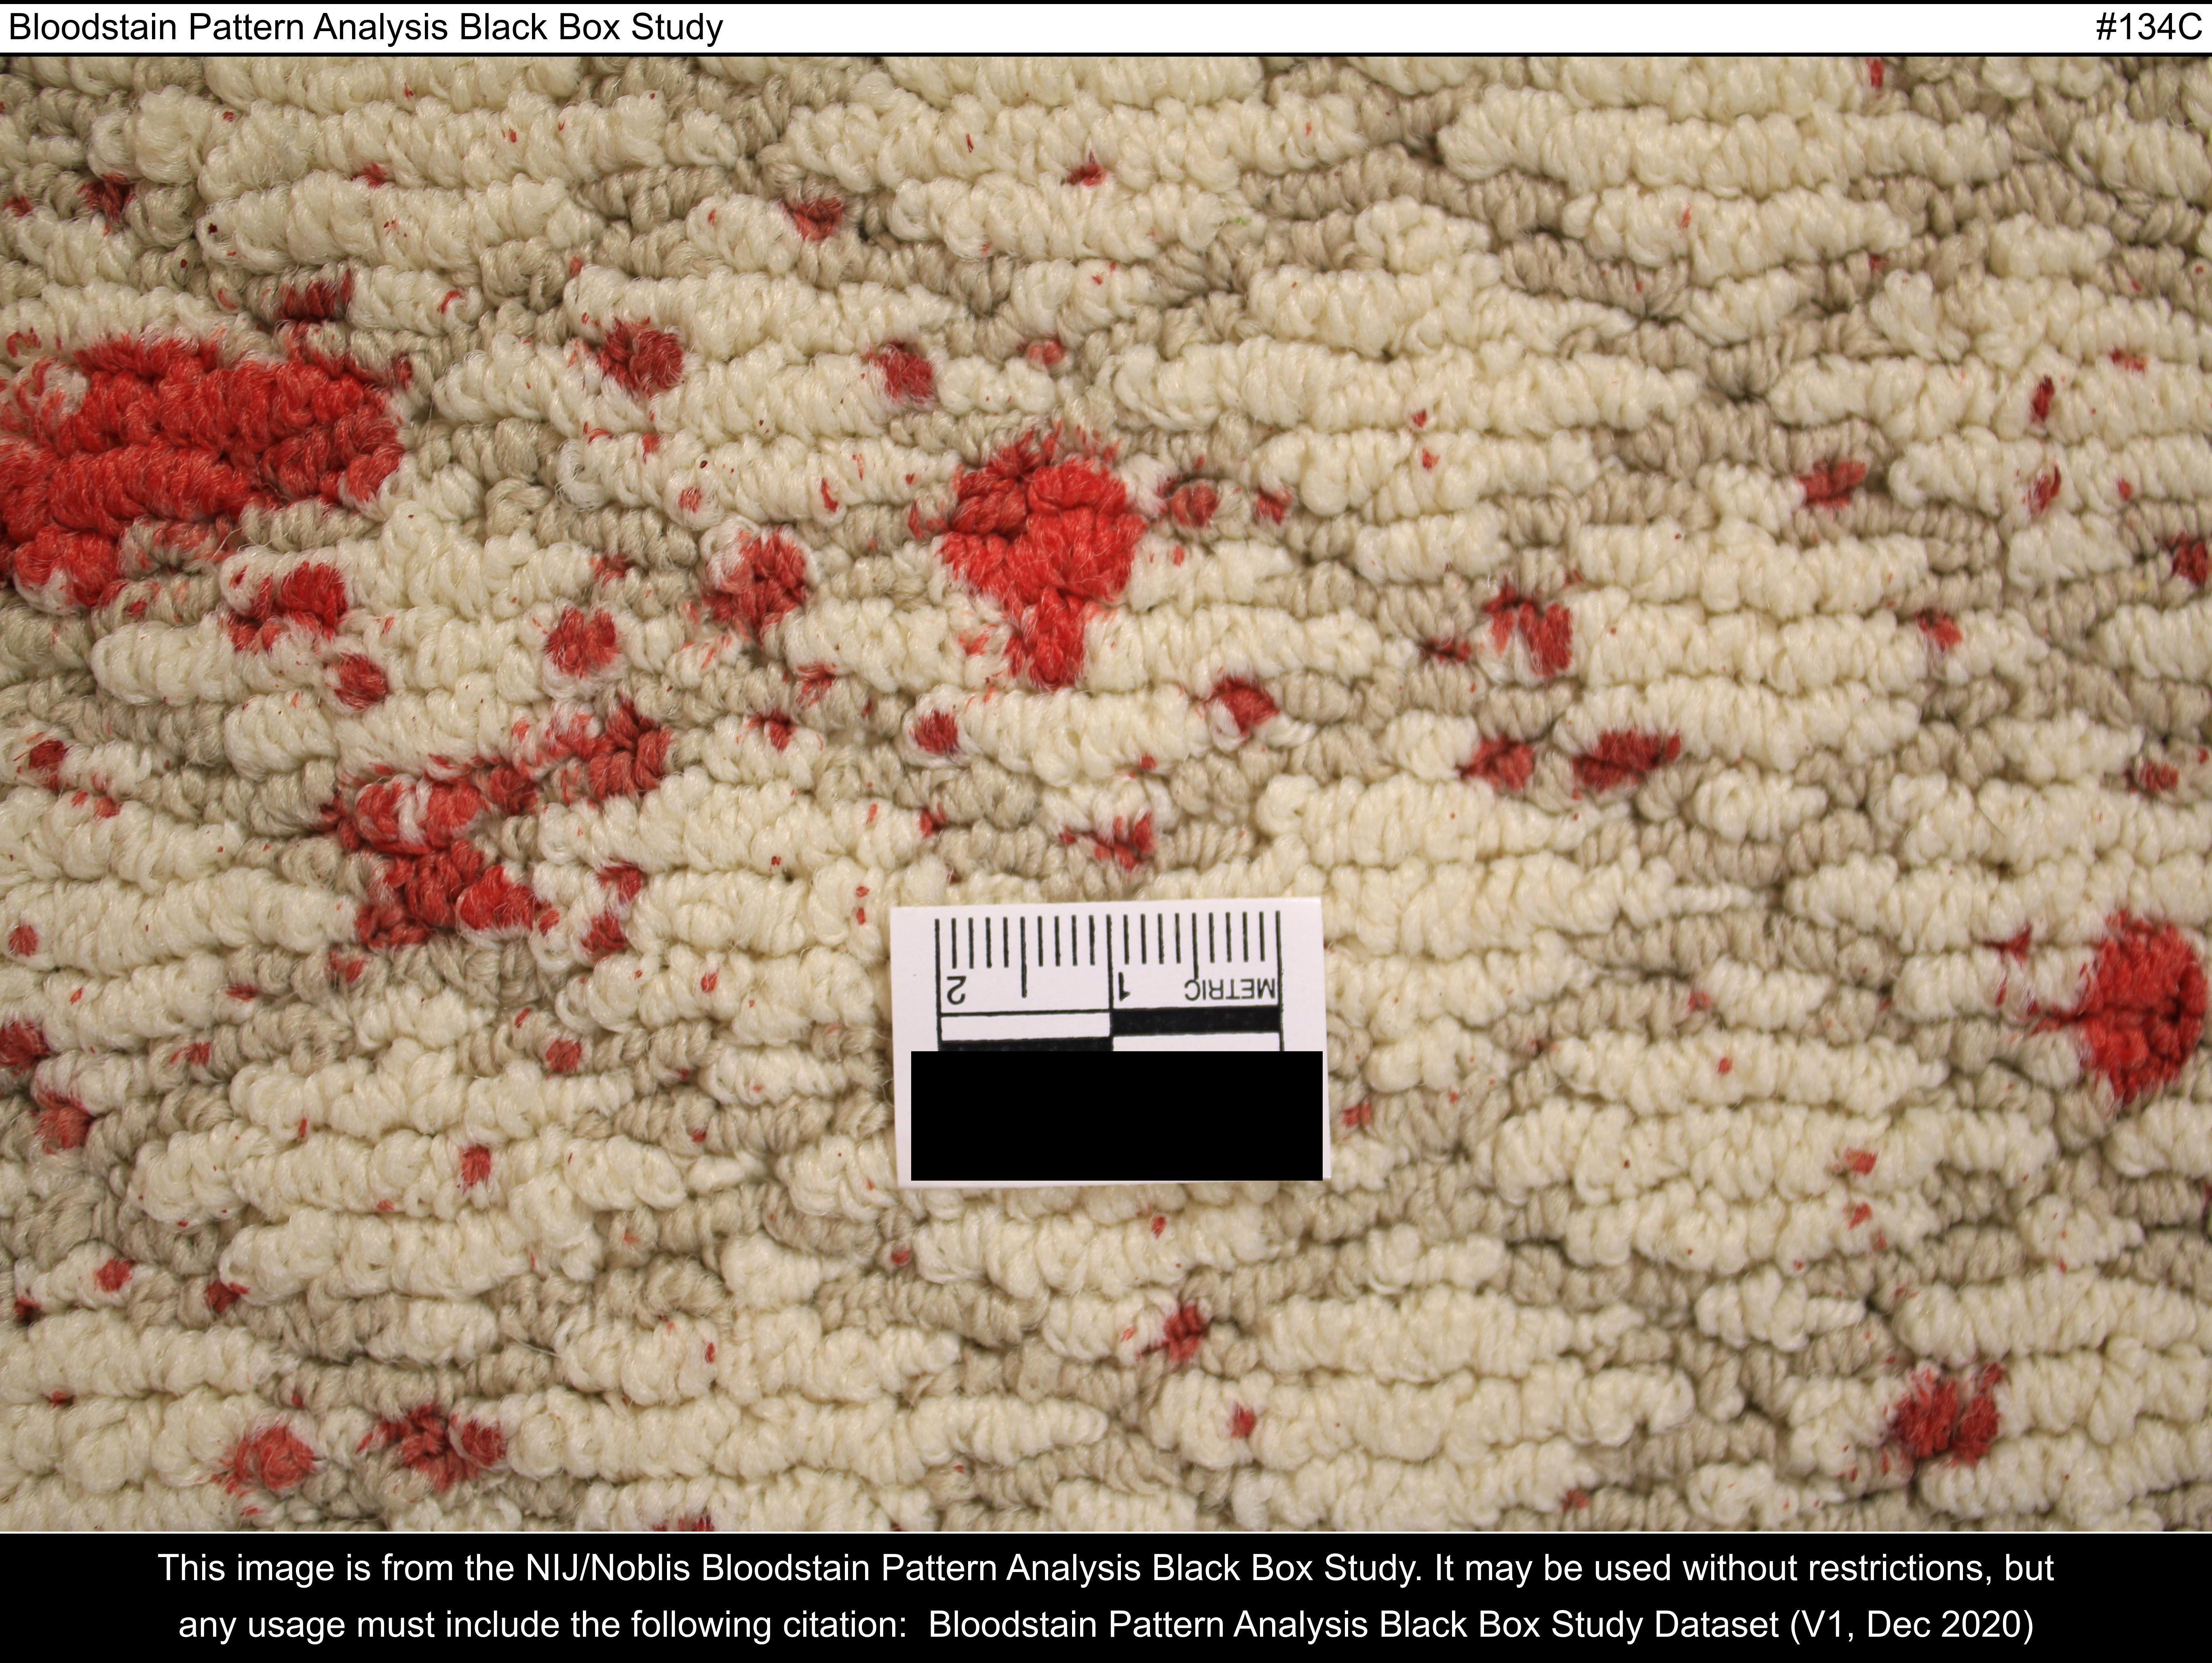Impact: (0, 77, 2212, 1528)
